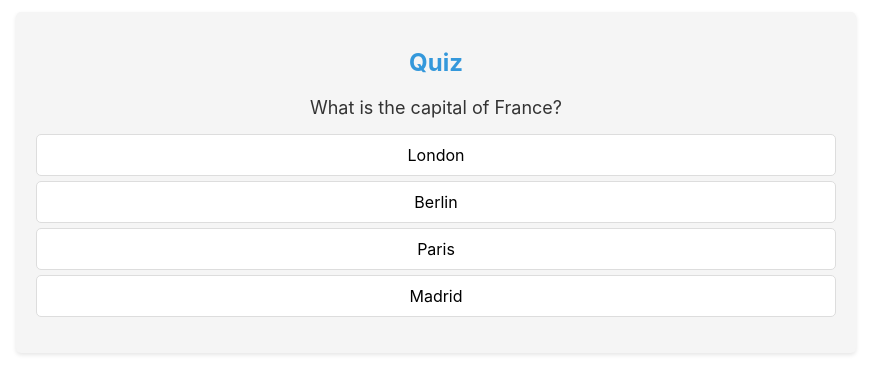
it: App › progresses_to_the_fourth_question_after_selecting_an_answer_for_the_third_question
Note: Select answers for the first two questions
Click the list item "Berlin" at (436, 202), box x1=36 y1=181 x2=836 y2=223
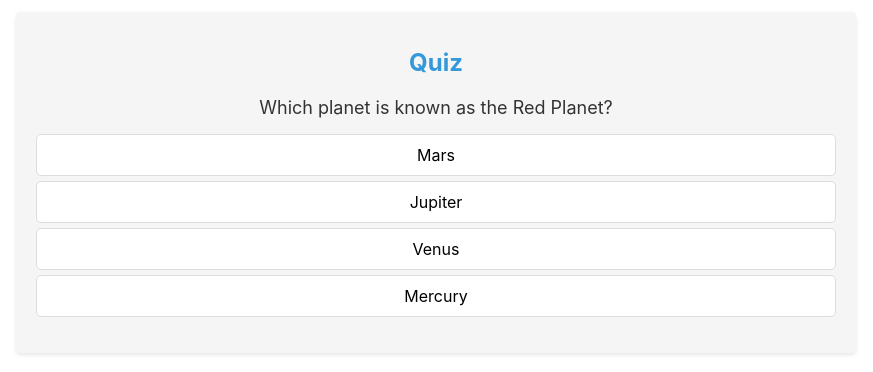
Click the list item "Mars" at (436, 155), box x1=36 y1=134 x2=836 y2=176
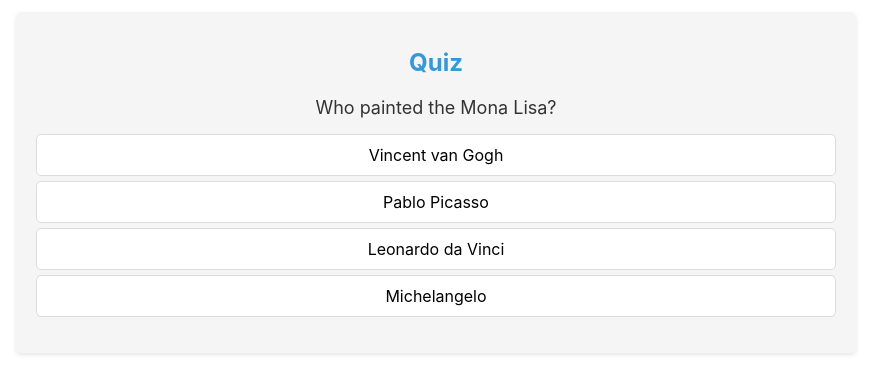
Note: Select an answer for the third question
Click the list item "Leonardo da Vinci" at (436, 249), box x1=36 y1=228 x2=836 y2=270
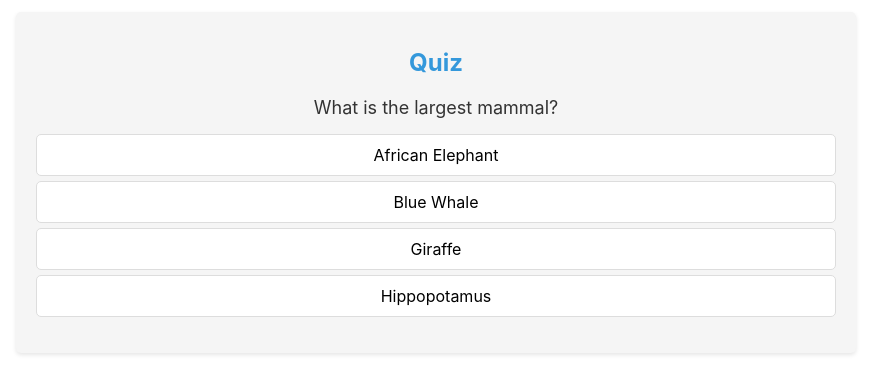
Check: the text "What is the largest mammal?" is shown, box x1=314 y1=97 x2=558 y2=118
Check: the list item "Leonardo da Vinci" is gone
